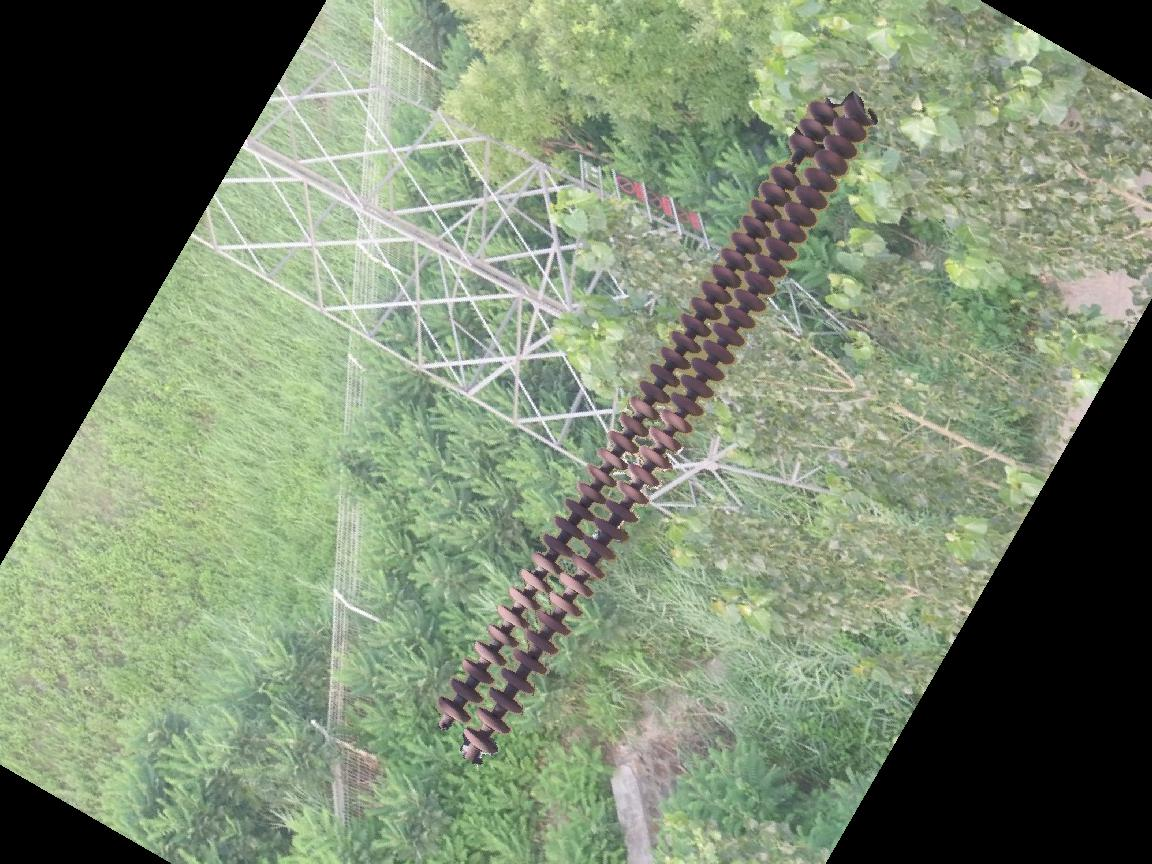insulator: (432, 92, 872, 764)
insulator_stringdrop: (769, 132, 819, 192)
